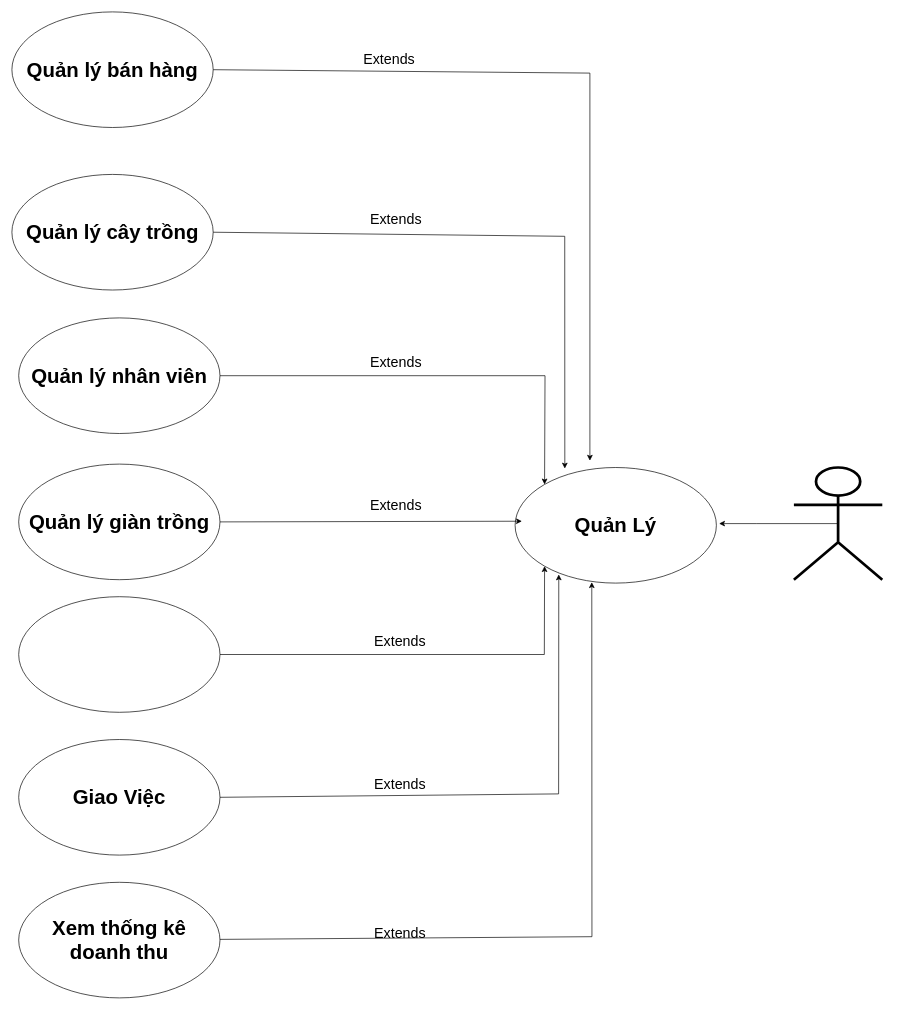
This 916x1010 diagram has some shape labels left out. The shapes that lost their labels are listed below. From the top down, each one's centre as x and y in pixels, then its label:
point (837, 523): Trưởng Phòng
point (119, 654): Quản lý kho hàng
